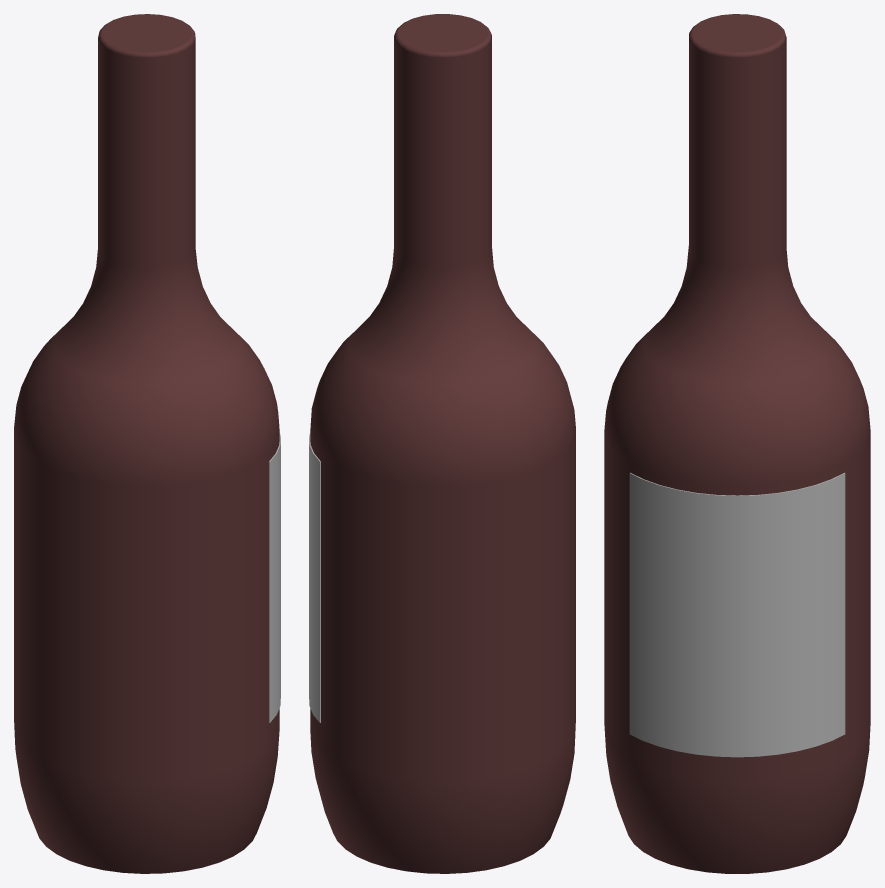
The model's file is 一升瓶.obj.
3 renders of one model, left to right at view 1: azimuth 30°, elevation 25°; view 2: azimuth 150°, elevation 25°; view 3: azimuth 270°, elevation 25°, orthographic.
Visible parts, largest first — view 1: ソリッド1; view 2: ソリッド1; view 3: ソリッド1.
Part boxes in pixels (x1=…): ソリッド1: x1=14, y1=14, x2=280, y2=873; ソリッド1: x1=309, y1=14, x2=575, y2=873; ソリッド1: x1=604, y1=14, x2=870, y2=873.
Size of the model in its own units: 120 by 395 by 120.
